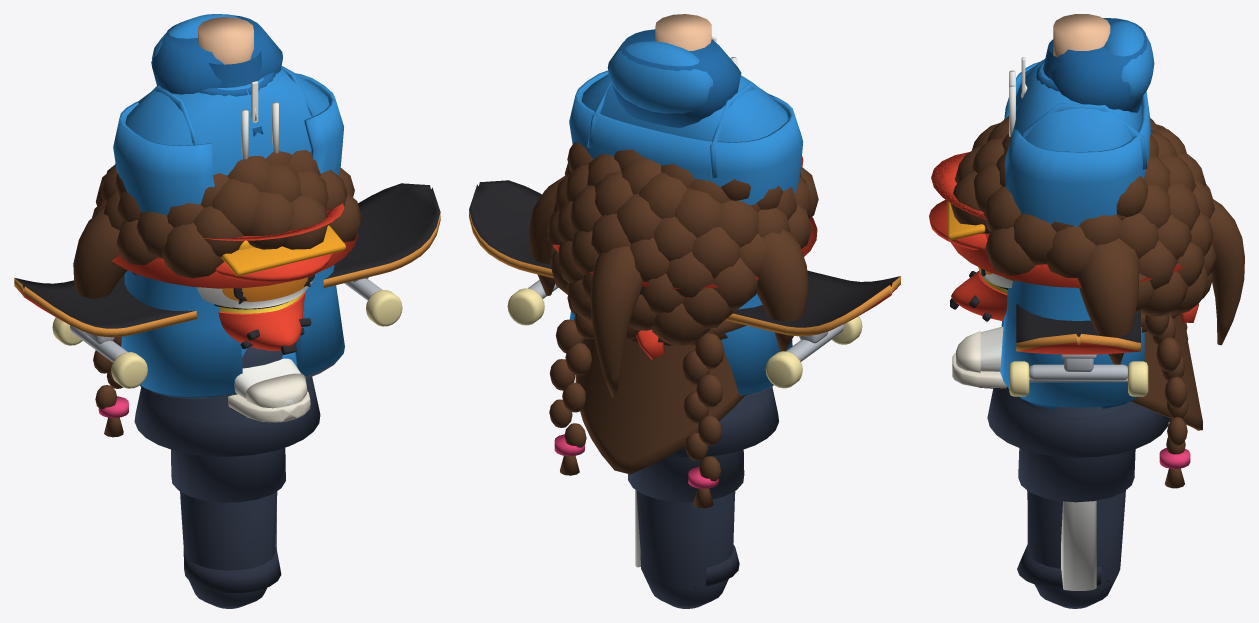
Rendered from wardrobe.glb.
3 views of the same model, side by side, from view 1: azimuth 30°, elevation 25°; view 2: azimuth 150°, elevation 25°; view 3: azimuth 270°, elevation 25° (orthographic).
Visible parts, largest first — view 1: torso__jacket, hair__afro, torso__hoodie, deck__std, thigh_L__skirt, thigh_L__joggers, helmet__fullface, thigh_L__shorts, shoe_L__high, hair__pigtails, shin_L__jeans, helmet__farm (+6 smaller); view 2: hair__afro, torso__hoodie, deck__std, torso__jacket, hair__long, hair__braids, thigh_L__joggers, hair__pigtails, hair__ponytail, thigh_L__shorts, thigh_L__skirt, hair__puffs (+2 smaller); view 3: hair__afro, torso__jacket, torso__hoodie, thigh_L__joggers, deck__std, thigh_L__skirt, thigh_L__shorts, hair__pigtails, hair__braids, helmet__fullface, hair__ponytail, hair__long (+9 smaller).
Part boxes in pixels (bbox=[...]): torso__jacket: bbox=[113, 73, 344, 397]; hair__afro: bbox=[92, 150, 361, 278]; torso__hoodie: bbox=[125, 14, 329, 362]; deck__std: bbox=[14, 183, 440, 388]; thigh_L__skirt: bbox=[134, 346, 320, 456]; thigh_L__joggers: bbox=[180, 491, 277, 608]; helmet__fullface: bbox=[197, 203, 344, 354]; thigh_L__shorts: bbox=[171, 447, 285, 502]; shoe_L__high: bbox=[228, 358, 310, 422]; hair__pigtails: bbox=[73, 207, 127, 298]; shin_L__jeans: bbox=[183, 547, 281, 592]; helmet__farm: bbox=[221, 225, 345, 275]; hair__afro: bbox=[547, 149, 818, 345]; torso__hoodie: bbox=[581, 14, 788, 142]; deck__std: bbox=[469, 180, 900, 388]; torso__jacket: bbox=[569, 70, 803, 395]; hair__long: bbox=[575, 338, 745, 474]; hair__braids: bbox=[549, 295, 724, 508]; thigh_L__joggers: bbox=[635, 489, 735, 608]; hair__pigtails: bbox=[528, 176, 808, 351]; hair__ponytail: bbox=[590, 245, 642, 397]; thigh_L__shorts: bbox=[628, 449, 744, 502]; thigh_L__skirt: bbox=[668, 387, 778, 457]; hair__puffs: bbox=[567, 141, 782, 209]; hair__afro: bbox=[950, 112, 1216, 316]; torso__jacket: bbox=[1000, 62, 1150, 408]; torso__hoodie: bbox=[1009, 14, 1154, 151]; thigh_L__joggers: bbox=[1027, 490, 1125, 608]; deck__std: bbox=[1009, 303, 1148, 396]; thigh_L__skirt: bbox=[987, 386, 1169, 457]; thigh_L__shorts: bbox=[1018, 448, 1135, 502]; hair__pigtails: bbox=[1077, 240, 1139, 364]; hair__braids: bbox=[1144, 314, 1190, 488]; helmet__fullface: bbox=[931, 152, 1013, 321]; hair__ponytail: bbox=[1210, 198, 1244, 345]; hair__long: bbox=[1131, 314, 1202, 430].
Bounding box in the file's own units: 0.8 × 1.07 × 0.5322.
